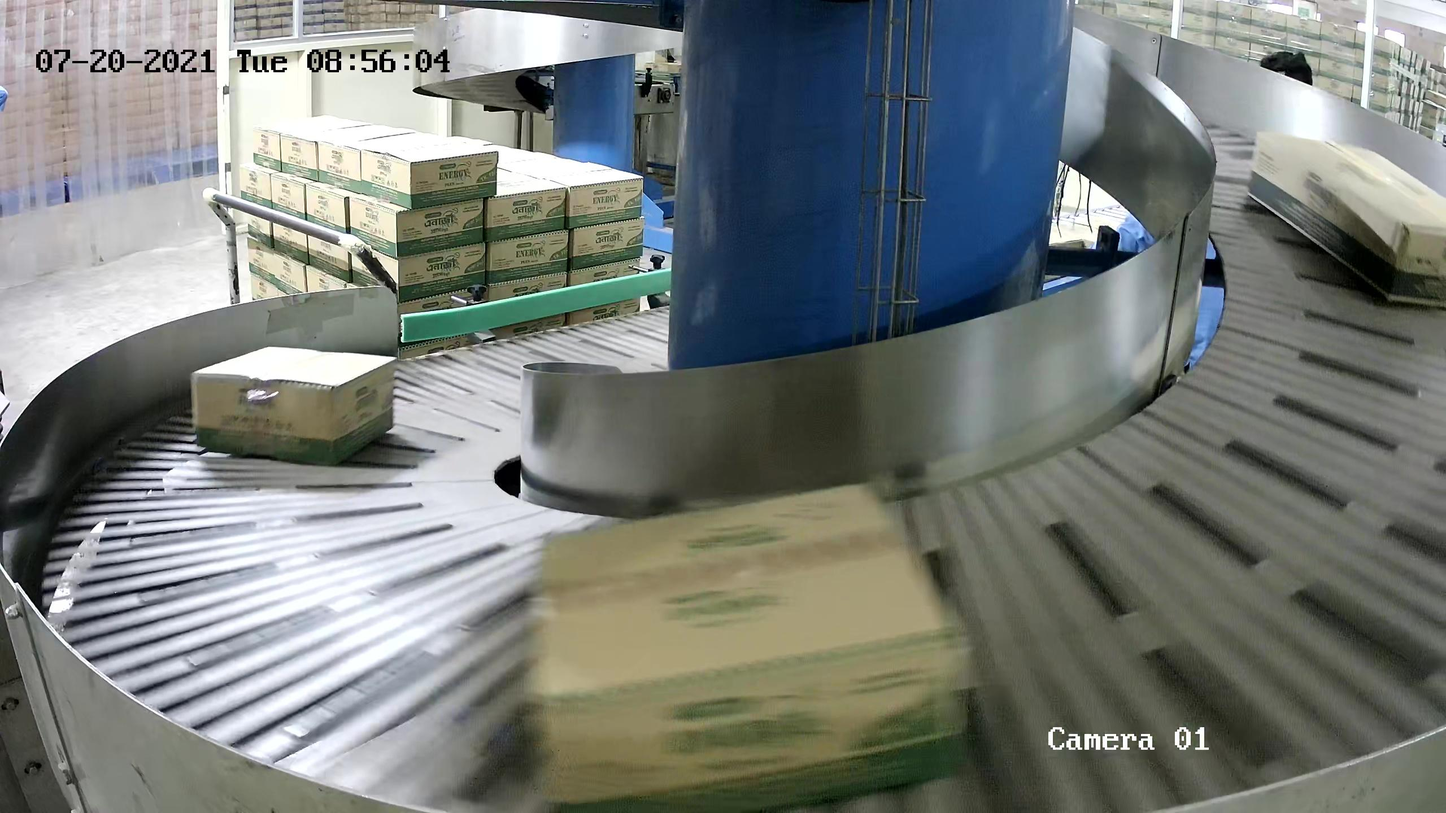Box: (523, 475, 980, 813), (1245, 127, 1446, 309), (188, 343, 398, 467)
